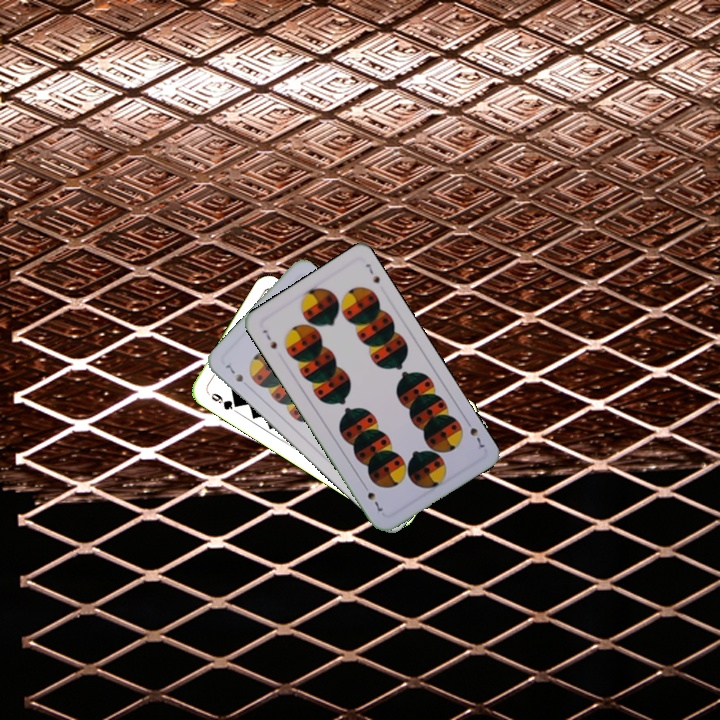G9: (207, 389, 242, 413)
S7: (461, 415, 487, 450), (221, 358, 246, 384), (258, 325, 280, 352)
